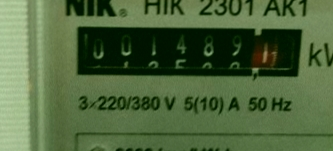0: (117, 32, 133, 58), (90, 37, 105, 62)
1: (146, 31, 160, 60), (258, 37, 270, 67)
4: (173, 32, 189, 58)
8: (199, 32, 216, 59)
9: (228, 34, 243, 59)
screen: (61, 15, 317, 93)
